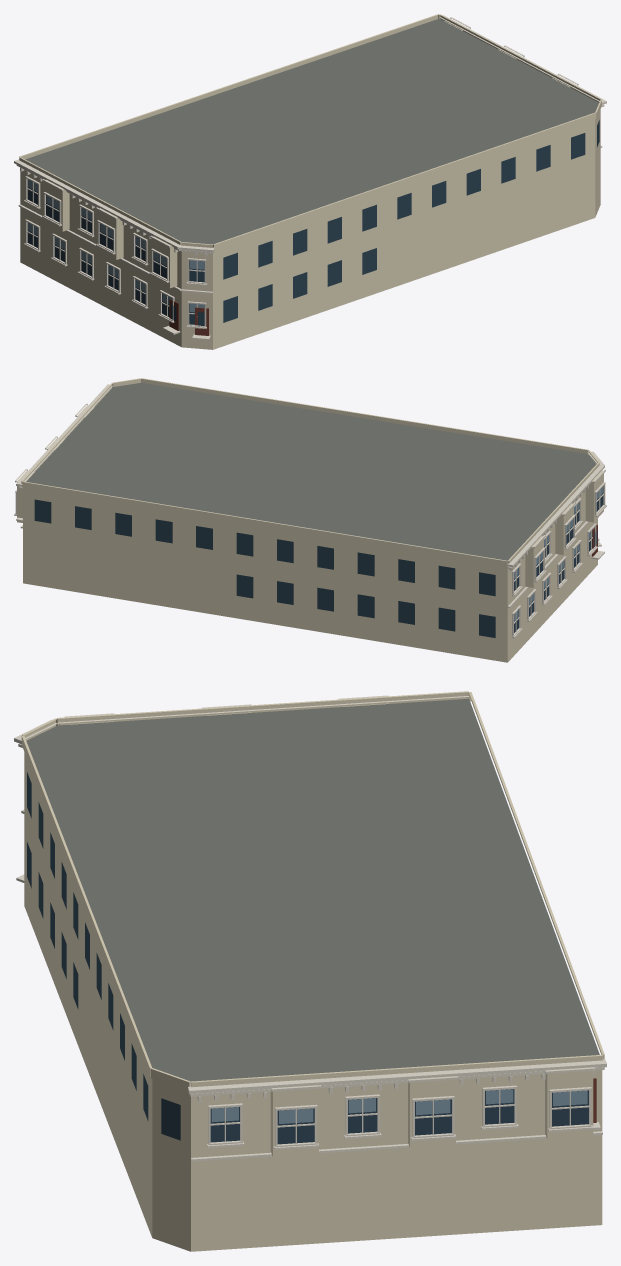
The picture shows the model from 3 angles, top to bottom: view 1: azimuth 30°, elevation 25°; view 2: azimuth 150°, elevation 25°; view 3: azimuth 270°, elevation 25°; orthographic projection. The views are drawn at different scales.
Parts seen in each view (by area): view 1: Footprint 0 / surface 1, Footprint 0 / surface 2, Facade bay volumes, Inset glazing, Cornices and window frames, Sky reflection panels, Storefronts and doors; view 2: Footprint 0 / surface 1, Footprint 0 / surface 2, Facade bay volumes, Inset glazing, Cornices and window frames, Sky reflection panels; view 3: Footprint 0 / surface 1, Footprint 0 / surface 2, Facade bay volumes, Cornices and window frames, Inset glazing, Sky reflection panels.
Boxes of the visible parts, x1,y1,x2,y2 form: Footprint 0 / surface 1: (25,18,598,244); Footprint 0 / surface 2: (20,109,600,349); Facade bay volumes: (19,14,601,288); Inset glazing: (27,120,599,325); Cornices and window frames: (14,15,606,340); Sky reflection panels: (28,179,204,312); Storefronts and doors: (169,299,208,335); Footprint 0 / surface 1: (26,382,596,560); Footprint 0 / surface 2: (23,487,597,662); Facade bay volumes: (17,378,603,587); Inset glazing: (34,486,603,637); Cornices and window frames: (14,384,606,638); Sky reflection panels: (514,487,602,620); Footprint 0 / surface 1: (26,698,599,1081); Footprint 0 / surface 2: (24,752,602,1251); Facade bay volumes: (21,691,604,1157); Cornices and window frames: (14,695,606,1161); Inset glazing: (27,772,588,1144); Sky reflection panels: (211,1089,587,1123).
Size of the model in its own units: 45.59 by 9.08 by 28.65.
